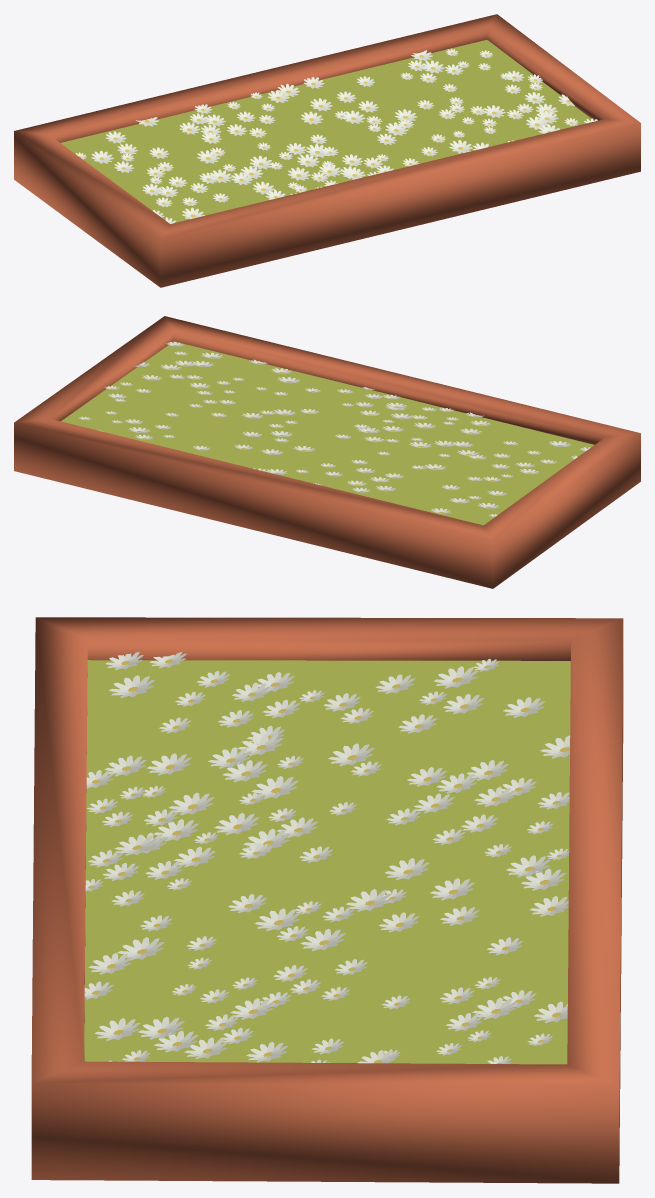
File: Fleur2.fbx
3 renders of one model, top to bottom at view 1: azimuth 30°, elevation 25°; view 2: azimuth 150°, elevation 25°; view 3: azimuth 270°, elevation 25°, orthographic. The views are drawn at different scales.
Visible parts, largest first — view 1: Cylinder005.004, Cylinder005.002; view 2: Cylinder005.004, Cylinder005.002; view 3: Cylinder005.004, Cylinder005.002.
Boxes of the visible parts, box(x1,y1,x2,y2) form: Cylinder005.004: box(14, 14, 640, 287); Cylinder005.002: box(75, 48, 597, 223); Cylinder005.004: box(14, 316, 640, 588); Cylinder005.002: box(78, 342, 590, 517); Cylinder005.004: box(31, 617, 623, 1183); Cylinder005.002: box(84, 652, 570, 1063).
Size of the model in its own units: 1067 by 103 by 569.
